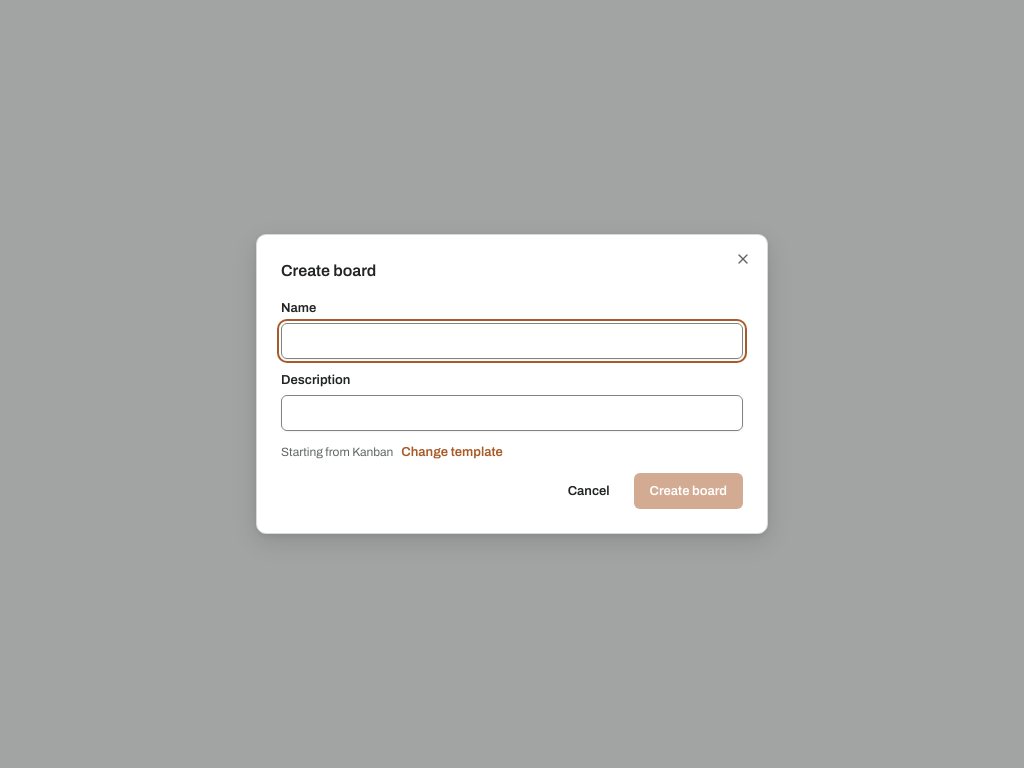
Test: CreateBoardDialog › reveals one option per template, with its columns and label preset, once expanded
The image size is (1024, 768).
Step 1. Click the button "Change template" → (452, 452), box [401,443,503,461]
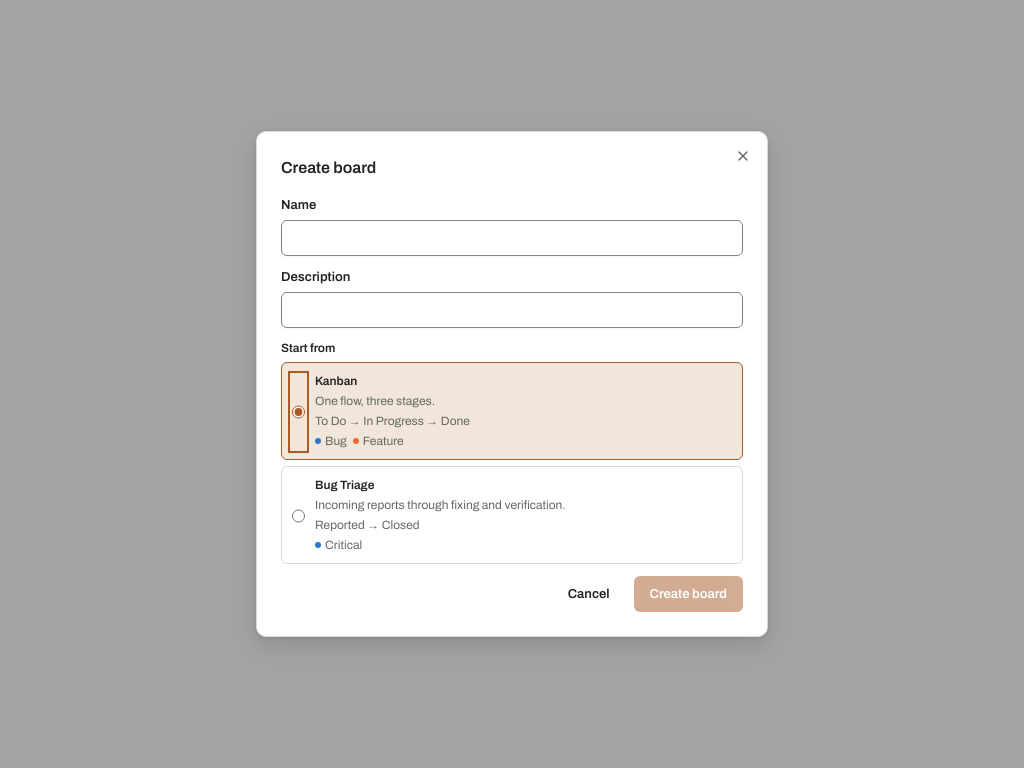
Expected: the number of radio buttons is 2, [292,375,305,449]; [292,479,305,553]
Expected: the text "To Do → In Progress → Done" is shown, [315,413,470,429]
Expected: the text "Feature" is shown, [353,433,404,449]
